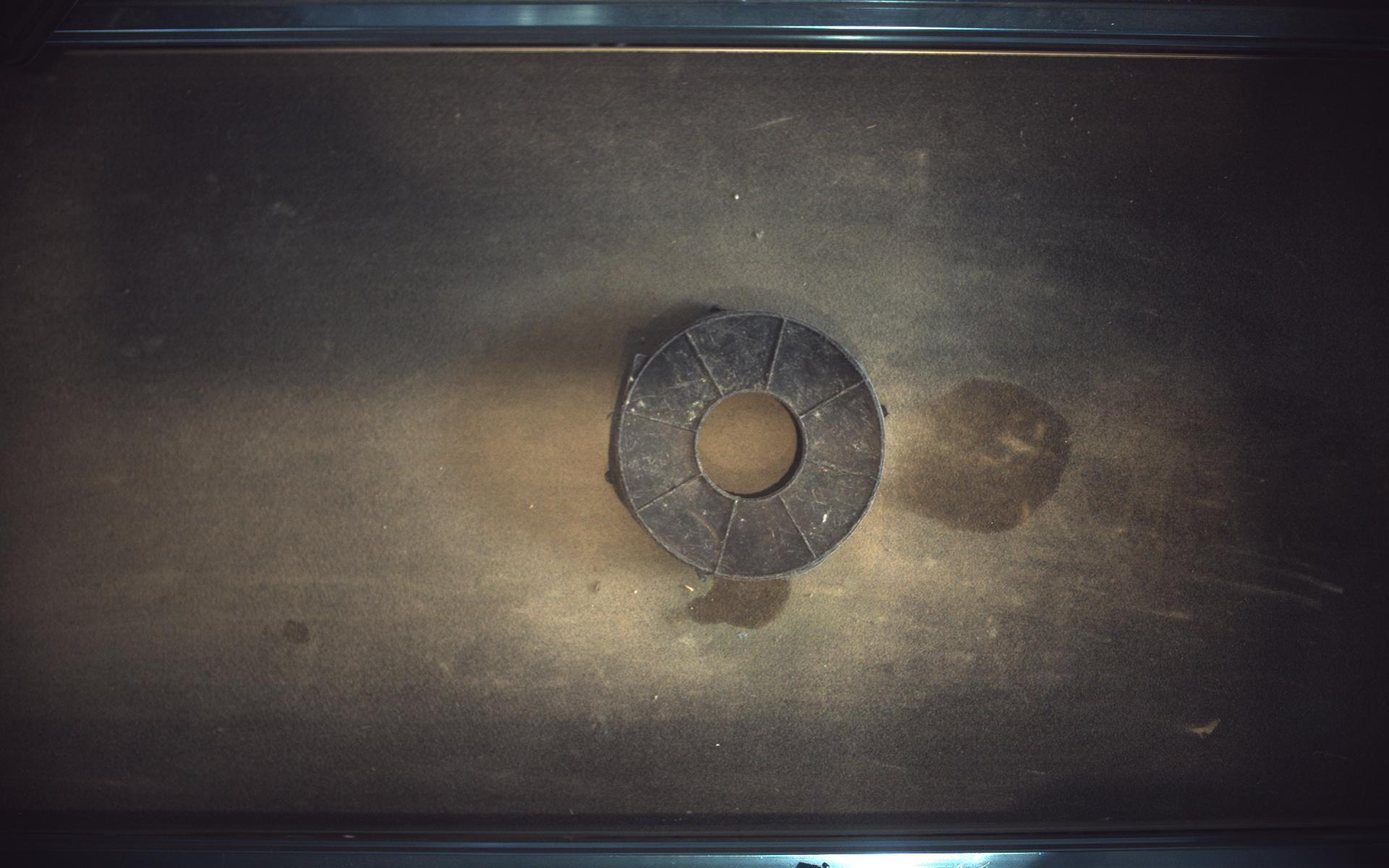plastic: (613, 311, 885, 582)
